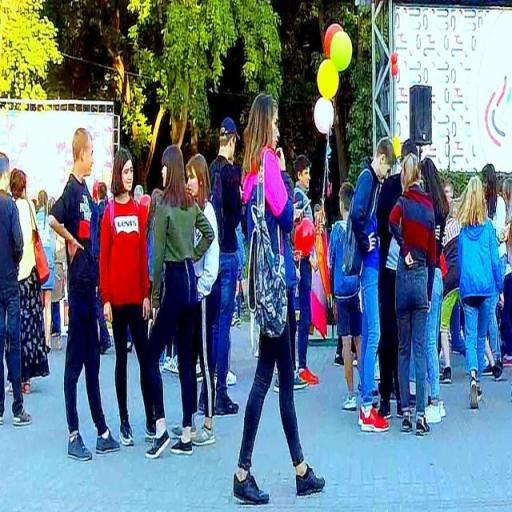person: (236, 90, 327, 510), (51, 124, 121, 462), (148, 145, 215, 463), (102, 148, 159, 444), (351, 134, 405, 436), (389, 155, 434, 442), (379, 139, 421, 420), (204, 119, 243, 418), (459, 177, 505, 411), (8, 170, 53, 399), (186, 150, 219, 448), (1, 152, 35, 432), (327, 180, 366, 414), (290, 151, 322, 390), (423, 159, 450, 425), (480, 165, 505, 379), (436, 202, 462, 383), (93, 184, 114, 359), (35, 188, 54, 356)
